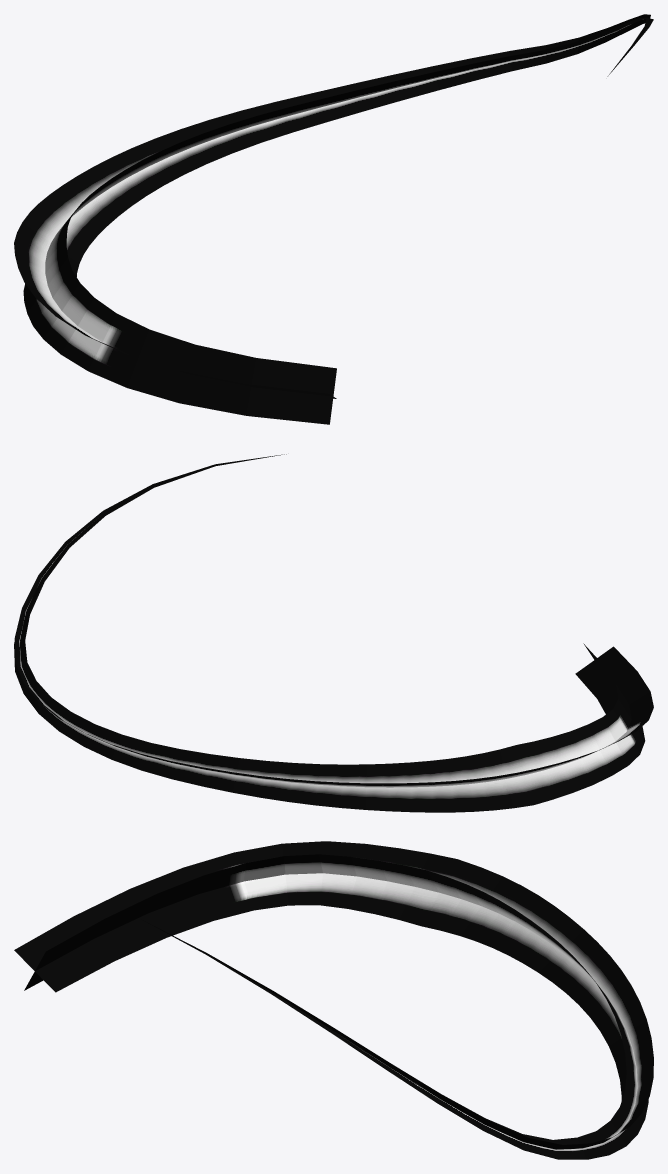
Rendered from TypeZero3.fbx.
3 renders of one model, top to bottom at view 1: azimuth 30°, elevation 25°; view 2: azimuth 150°, elevation 25°; view 3: azimuth 270°, elevation 25°, orthographic. The views are drawn at different scales.
Visible parts, largest first — view 1: SM_WEP_Eff_D61NJ1_A_03.mo; view 2: SM_WEP_Eff_D61NJ1_A_03.mo; view 3: SM_WEP_Eff_D61NJ1_A_03.mo.
Boxes of the visible parts, x1,y1,x2,y2 form: SM_WEP_Eff_D61NJ1_A_03.mo: [14, 14, 653, 424]; SM_WEP_Eff_D61NJ1_A_03.mo: [14, 454, 653, 812]; SM_WEP_Eff_D61NJ1_A_03.mo: [14, 841, 653, 1159].
Size of the model in its own units: 986 by 331 by 773.
